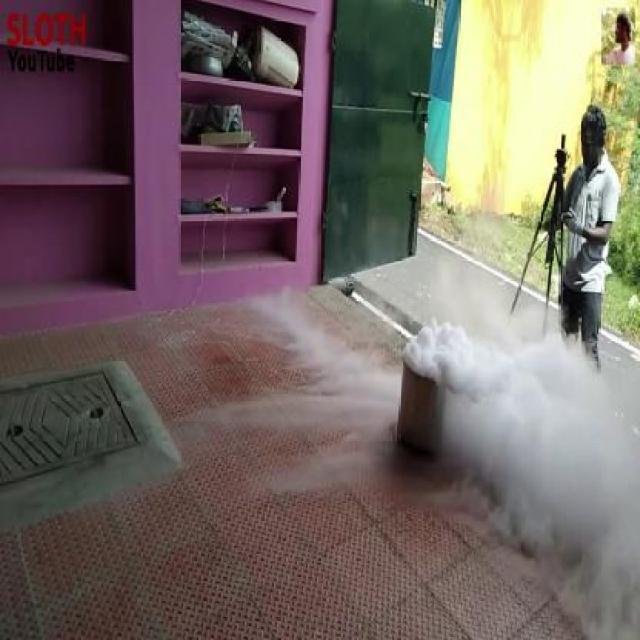smoke: (362, 257, 580, 588)
